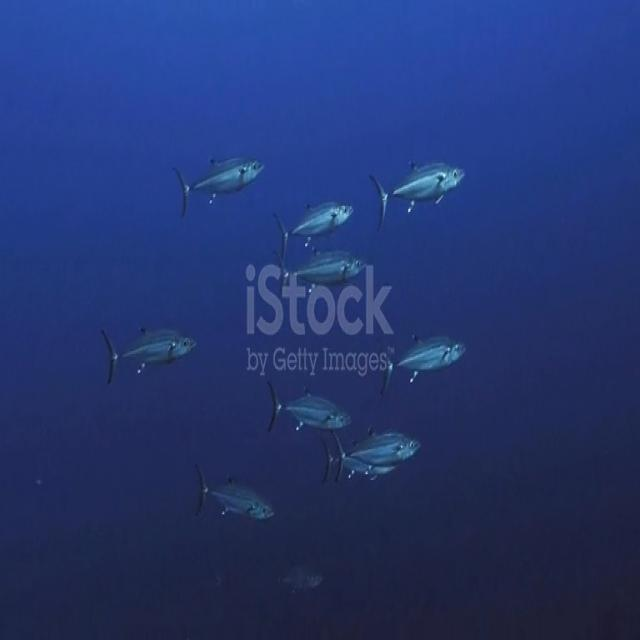fish: (374, 157, 467, 232), (327, 418, 422, 486), (170, 153, 270, 217), (98, 321, 200, 383), (378, 324, 467, 390), (268, 373, 354, 434), (196, 466, 277, 526), (274, 196, 354, 256), (280, 254, 376, 293)
